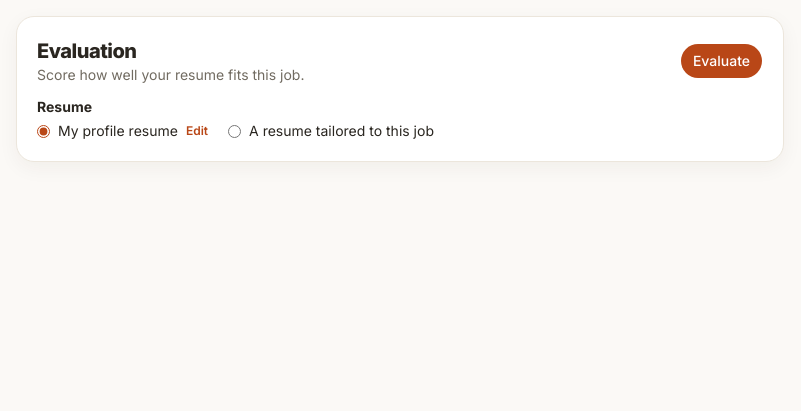
Scenario: JobEvaluationPanel › requires tailored resume text
Click the radio button labelled "A resume tailored to this job". click: [234, 131]
box: [228,124,241,138]
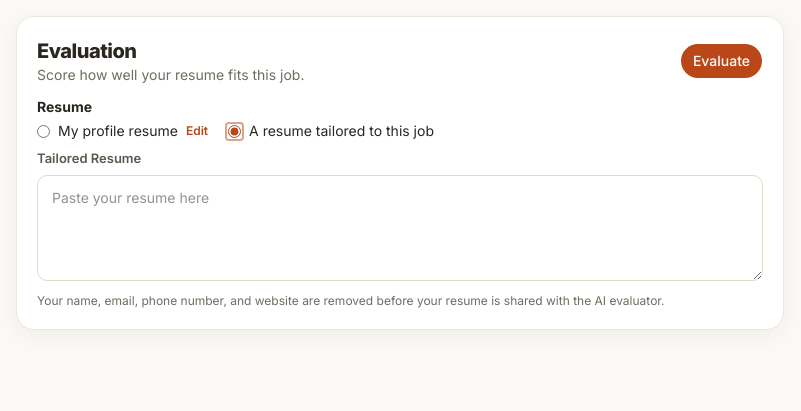
Click the button "Evaluate". click: [721, 61]
box: [680,43,763,79]
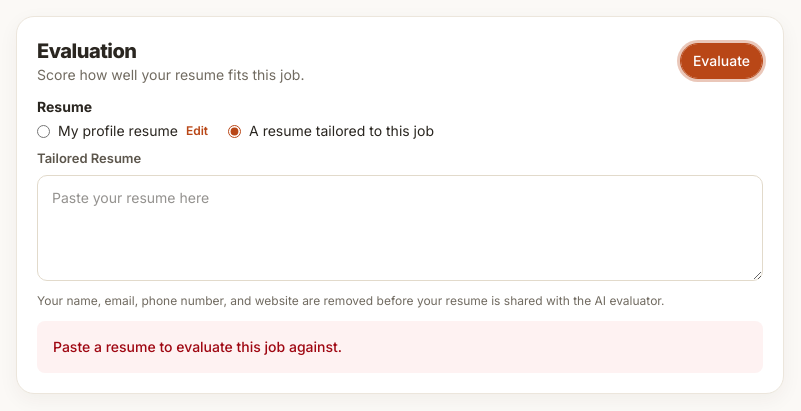
expect the message reads "Paste a resume to evaluate this job against.": met, box [53,338,342,354]
